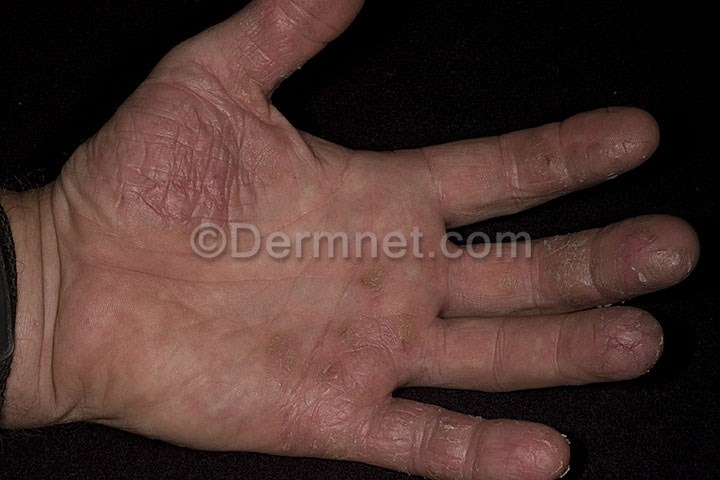Psoriasis: (146, 81, 273, 221), (362, 402, 566, 475), (259, 328, 364, 447), (537, 229, 694, 294), (328, 268, 425, 361), (519, 139, 650, 180), (583, 313, 656, 371)
